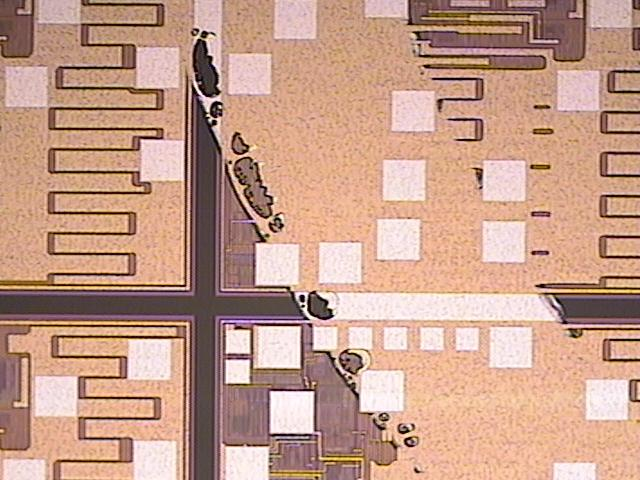COATING BAD: (163, 1, 640, 480)
